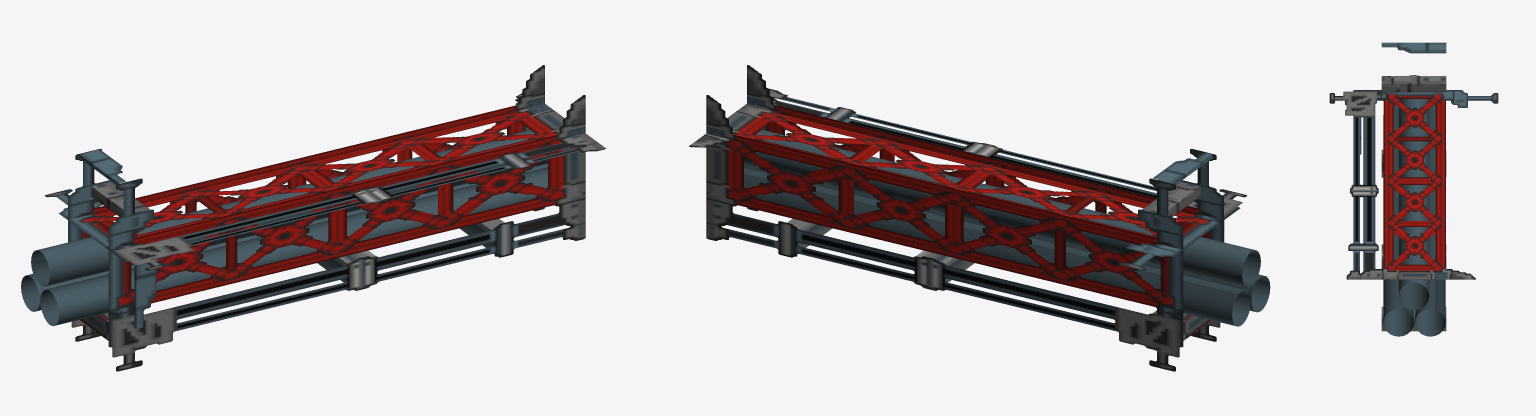
The model's file is Scaffling_01.fbx.
3 renders of one model, left to right at view 1: azimuth 30°, elevation 25°; view 2: azimuth 150°, elevation 25°; view 3: azimuth 270°, elevation 25°, orthographic. The views are drawn at different scales.
Visible parts, largest first — view 1: Scaffling_01; view 2: Scaffling_01; view 3: Scaffling_01.
Boxes of the visible parts, box(x1,y1,x2,y2) form: Scaffling_01: box(21, 65, 605, 371); Scaffling_01: box(689, 65, 1270, 371); Scaffling_01: box(1329, 42, 1498, 336).
Bounding box in the file's own units: 18.62 × 8.13 × 8.13.
